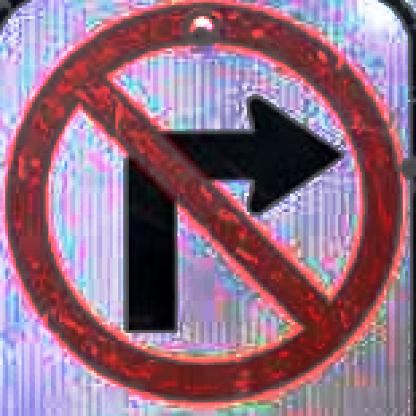No right turn: (9, 2, 410, 406)
